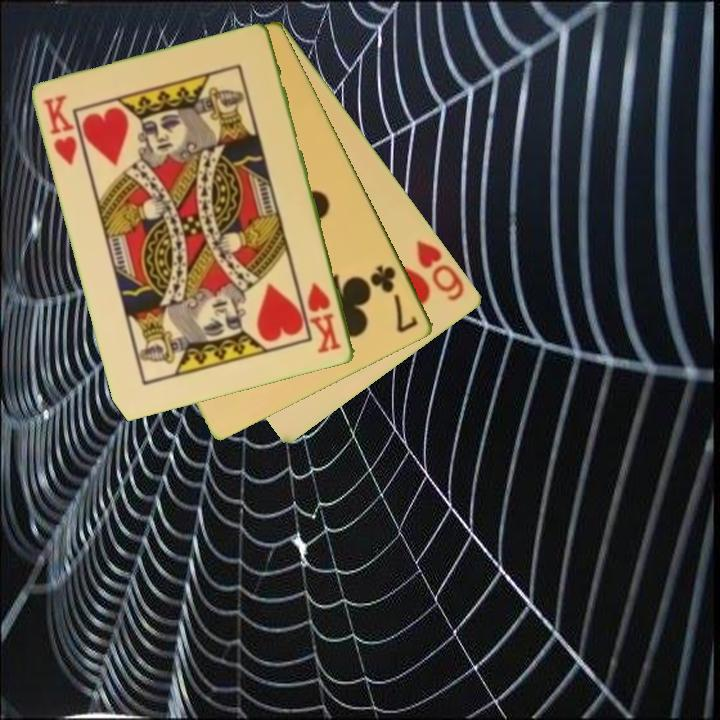6h: (413, 236, 468, 304)
7c: (367, 261, 422, 337)
Kh: (304, 279, 345, 357), (40, 91, 81, 169)
